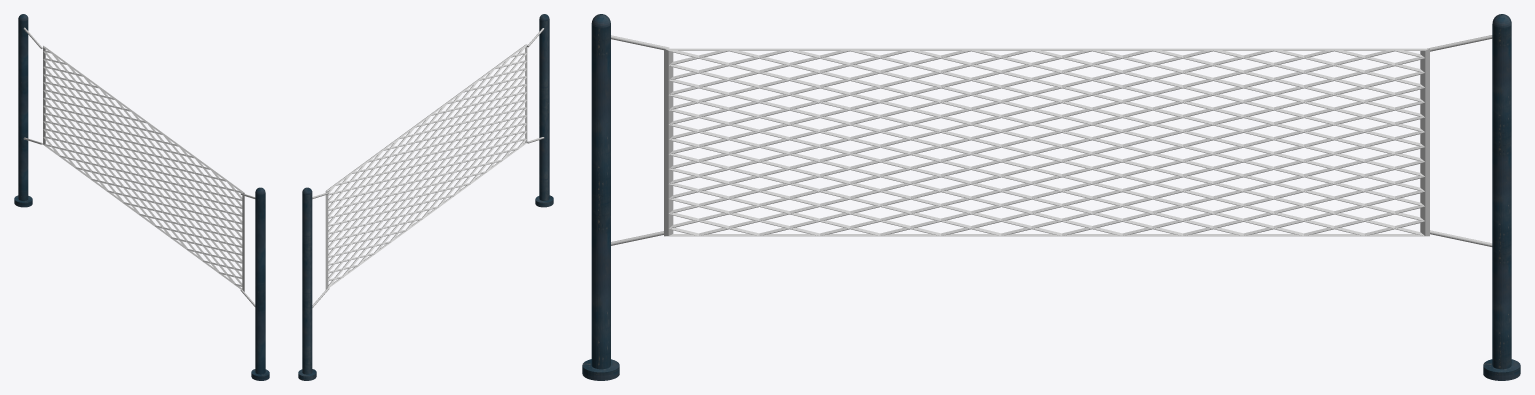
Rendered from Red.fbx.
The picture shows the model from 3 angles, left to right: view 1: azimuth 30°, elevation 25°; view 2: azimuth 150°, elevation 25°; view 3: azimuth 270°, elevation 25°; orthographic projection. The views are drawn at different scales.
Parts seen in each view (by area): view 1: Red; view 2: Red; view 3: Red.
Boxes of the visible parts, <box> form: Red: <box>14,14,269,380</box>; Red: <box>298,14,553,380</box>; Red: <box>582,14,1520,380</box>.
Size of the model in its own units: 2.42 by 28.45 by 67.38.
